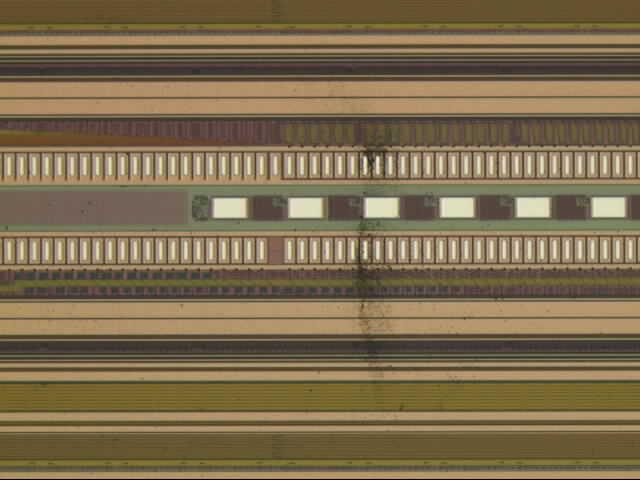PO CONTAMINATION: (346, 127, 409, 424)
